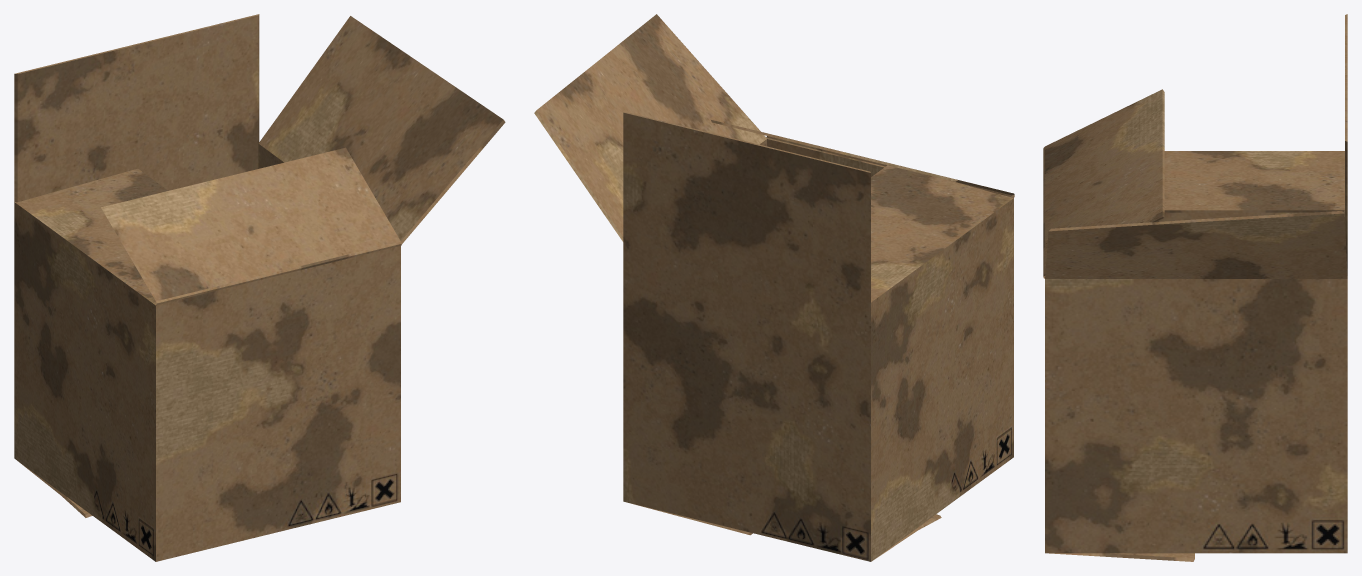
The model's file is cardboard_box.glb.
The picture shows the model from 3 angles, left to right: view 1: azimuth 30°, elevation 25°; view 2: azimuth 150°, elevation 25°; view 3: azimuth 270°, elevation 25°; orthographic projection. The views are drawn at different scales.
Parts seen in each view (by area): view 1: Box001; view 2: Box001; view 3: Box001.
Part boxes in pixels (box(x1,y1,x2,y2)): Box001: box(14, 14, 505, 561); Box001: box(534, 14, 1014, 561); Box001: box(1043, 14, 1347, 561).
Bounding box in the file's own units: 1.87 × 2 × 1.31.
Materials: 1 (1 with a texture image).
